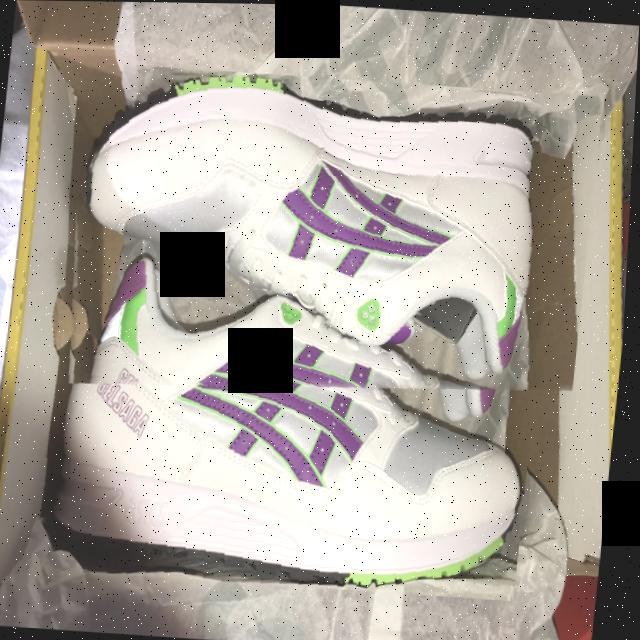shoe: (53, 61, 606, 416), (22, 253, 550, 600)
